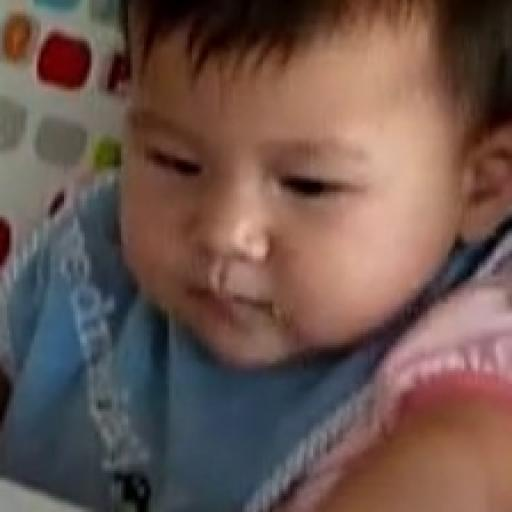Autism: (91, 0, 512, 384)
